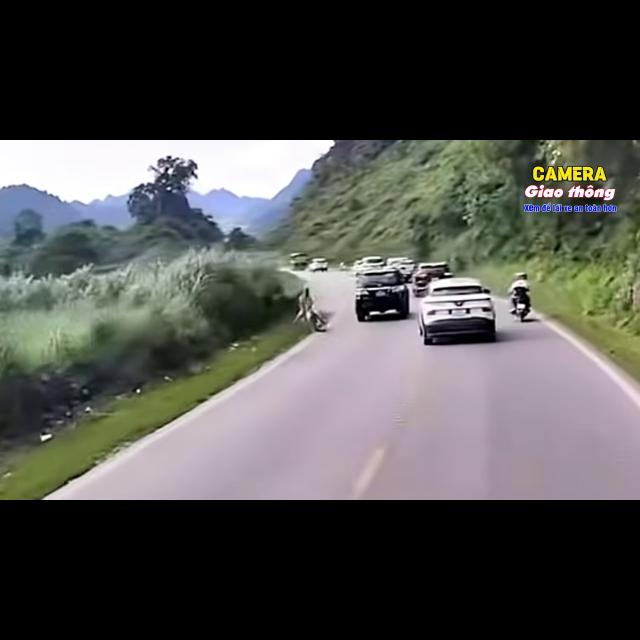car: (418, 278, 495, 344), (355, 268, 409, 321), (411, 262, 449, 296), (388, 254, 414, 276), (354, 256, 384, 270), (290, 253, 308, 270), (308, 258, 328, 271)
motorcycle: (294, 305, 328, 331), (308, 307, 327, 331), (514, 298, 530, 321)
